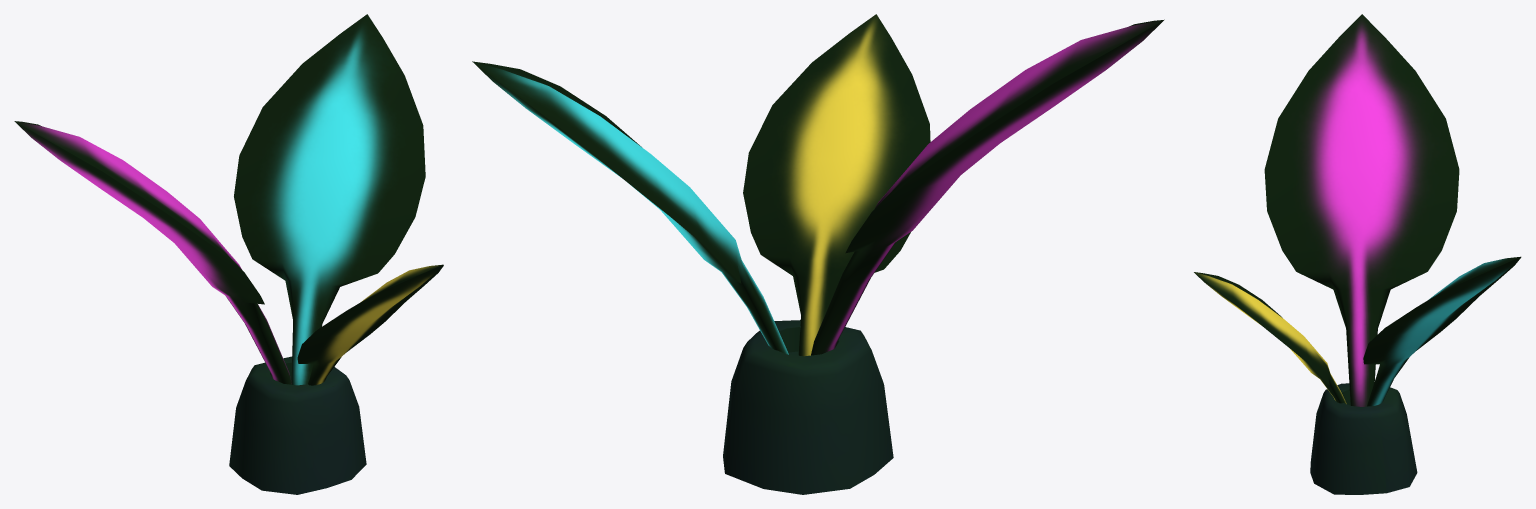
File: Plant.fbx
3 views of the same model, side by side, from view 1: azimuth 30°, elevation 25°; view 2: azimuth 150°, elevation 25°; view 3: azimuth 270°, elevation 25° (orthographic). The views are drawn at different scales.
Parts seen in each view (by area): view 1: Plant; view 2: Plant; view 3: Plant.
Boxes of the visible parts, x1,y1,x2,y2 form: Plant: (14,14,443,494); Plant: (472,14,1164,494); Plant: (1194,14,1521,494).
Size of the model in its own units: 9.49 by 8.33 by 7.2.
Materials: 1 (1 with a texture image).
